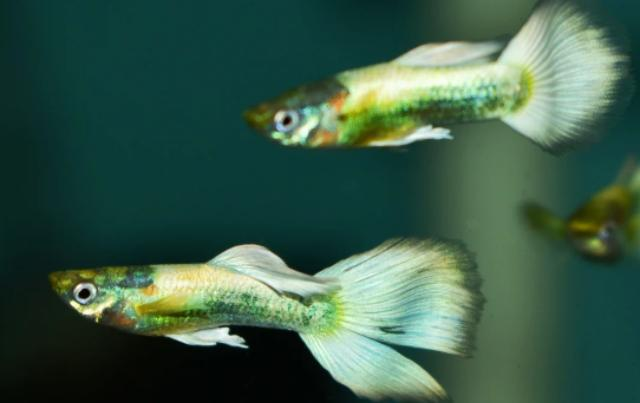Mulut: (32, 251, 84, 317), (225, 86, 267, 144)
Sirip Anal: (395, 116, 473, 154), (197, 316, 265, 358)
Sirip Dada: (125, 272, 198, 334)
Sirip Ekor: (295, 224, 505, 403), (490, 1, 640, 162)
Sirip Perut: (161, 325, 215, 373)
Sirip Punggung: (202, 232, 346, 314), (377, 23, 509, 84)
